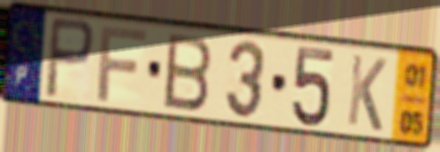3: (222, 38, 266, 122)
5: (288, 42, 337, 129)
B: (162, 30, 215, 114)
F: (95, 24, 150, 105)
K: (345, 51, 390, 135)
P: (42, 14, 97, 103)
